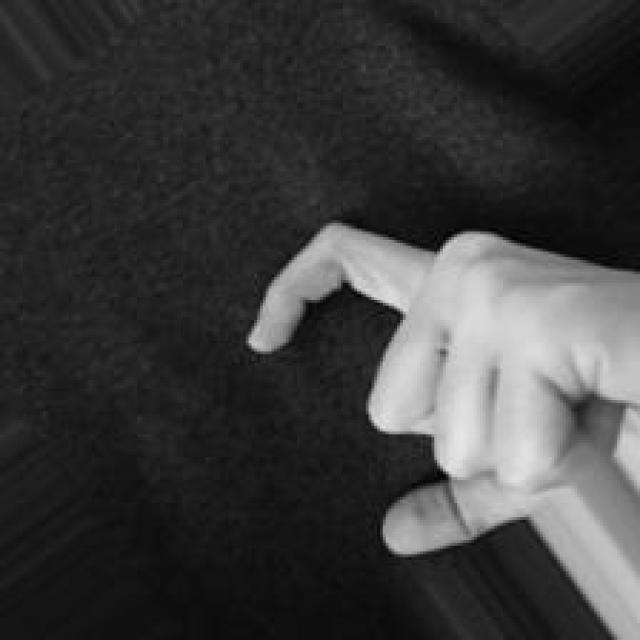C: (237, 217, 640, 574)
